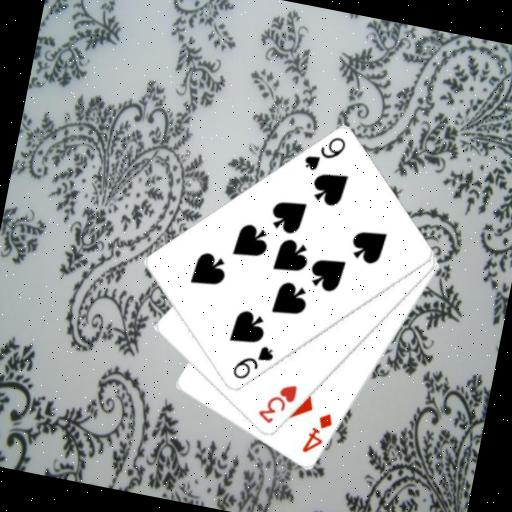3H: (253, 376, 300, 430)
4D: (298, 407, 337, 459)
9S: (300, 128, 349, 178), (228, 338, 277, 387)
